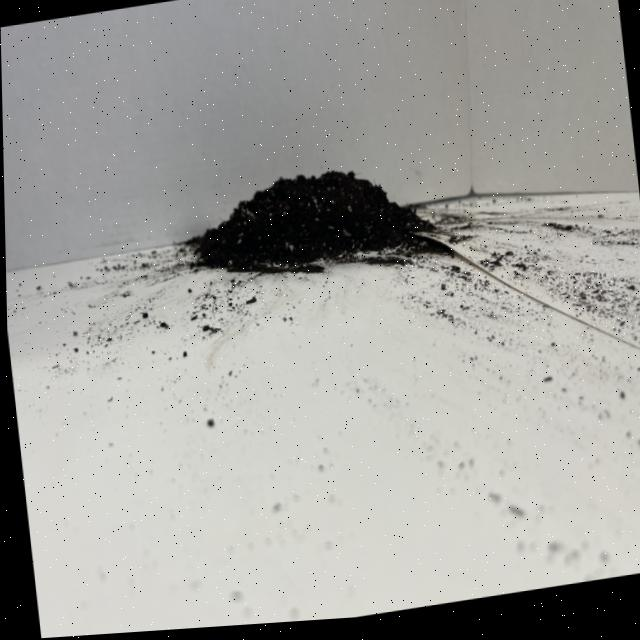soil: (181, 149, 441, 296)
